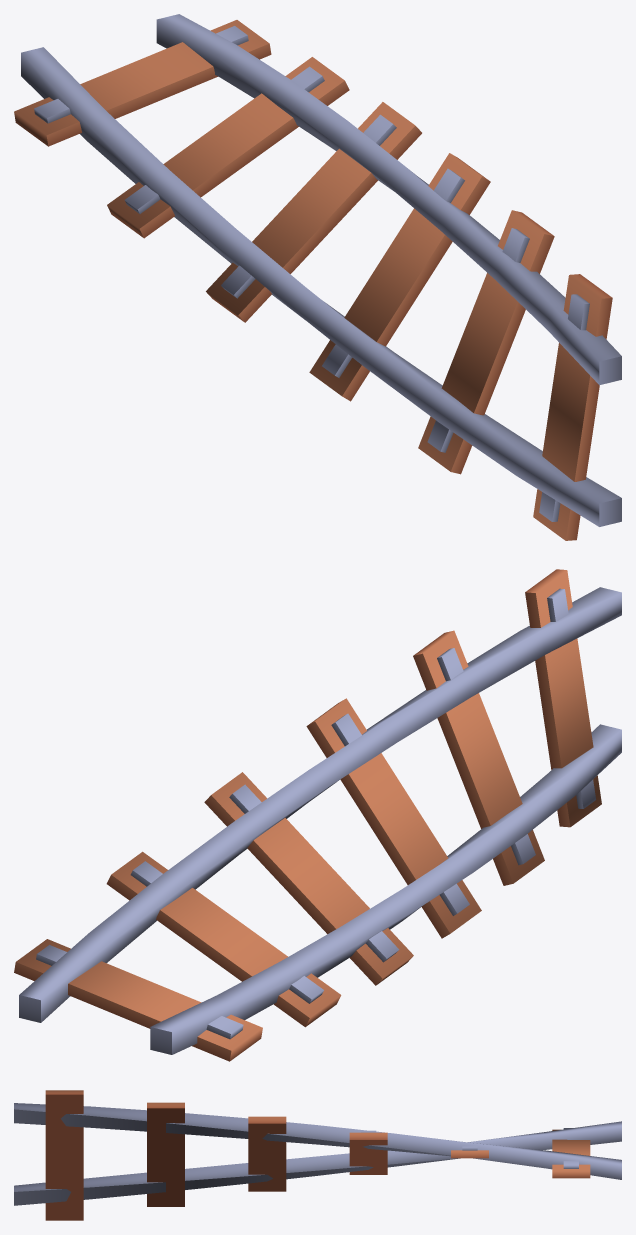
The model's file is railroad-straight-skew-right-side.glb.
The picture shows the model from 3 angles, top to bottom: view 1: azimuth 30°, elevation 25°; view 2: azimuth 150°, elevation 25°; view 3: azimuth 270°, elevation 25°; orthographic projection. The views are drawn at different scales.
Visible parts, largest first — view 1: railroad-straight-skew-right-side; view 2: railroad-straight-skew-right-side; view 3: railroad-straight-skew-right-side.
Part boxes in pixels (left/top/right/bottom): railroad-straight-skew-right-side: left=14, top=14, right=621, bottom=540; railroad-straight-skew-right-side: left=14, top=569, right=621, bottom=1061; railroad-straight-skew-right-side: left=14, top=1090, right=621, bottom=1220.
Bounding box in the file's own units: 0.9953 × 0.9953 × 4.
